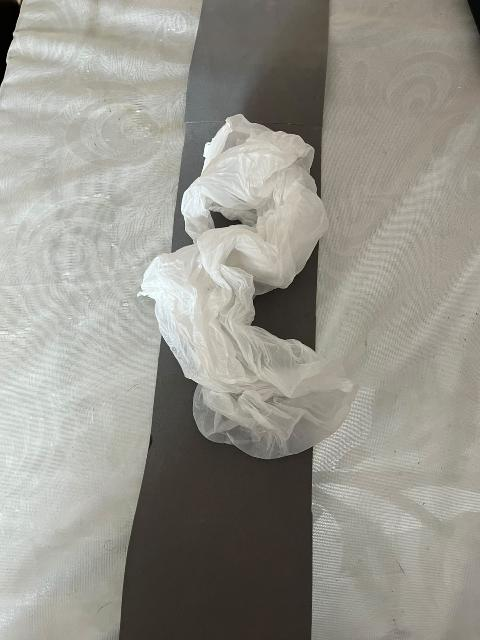LDPE: (127, 101, 385, 484)
